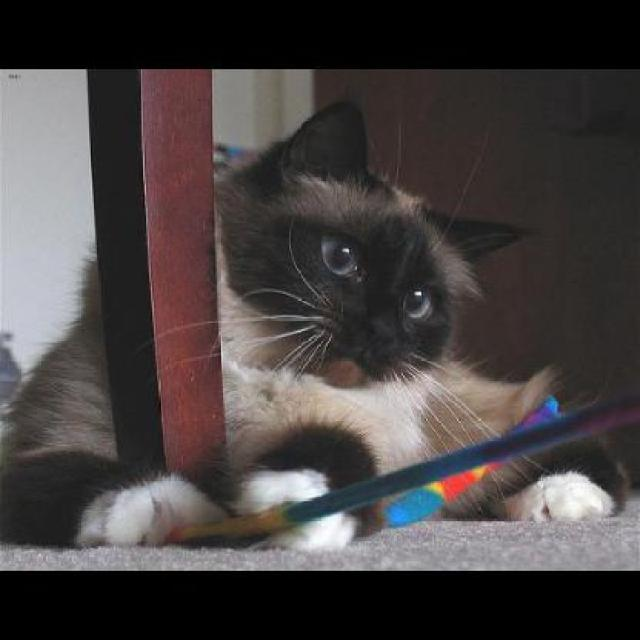unauthorized: (0, 97, 629, 551)
